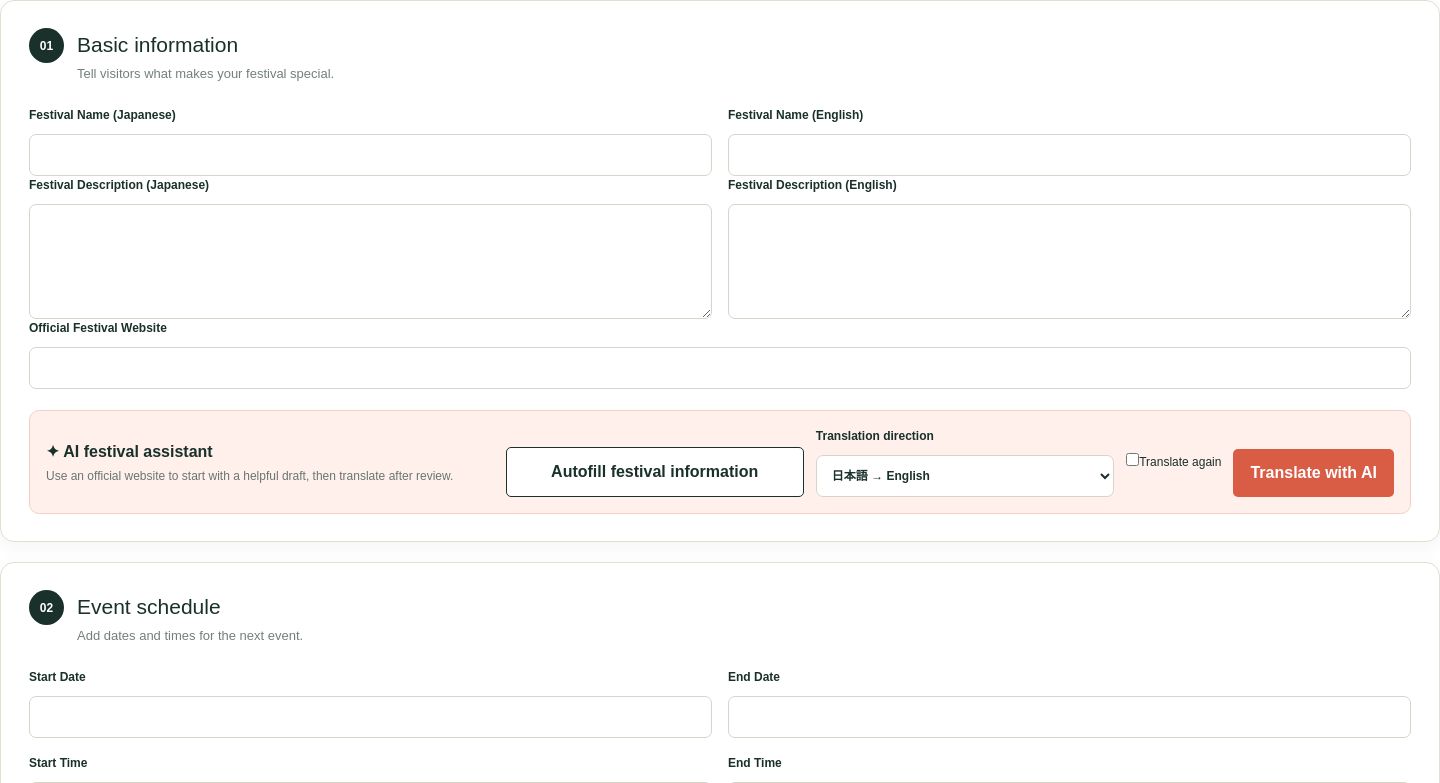
SubmissionForm Phase 2 › normalizes legacy Japanese autofill values into bilingual form fields without replacing edits
Type "Approved translation" into the text box named "descriptionEn" at [1070, 262], box [728, 204, 1411, 319]
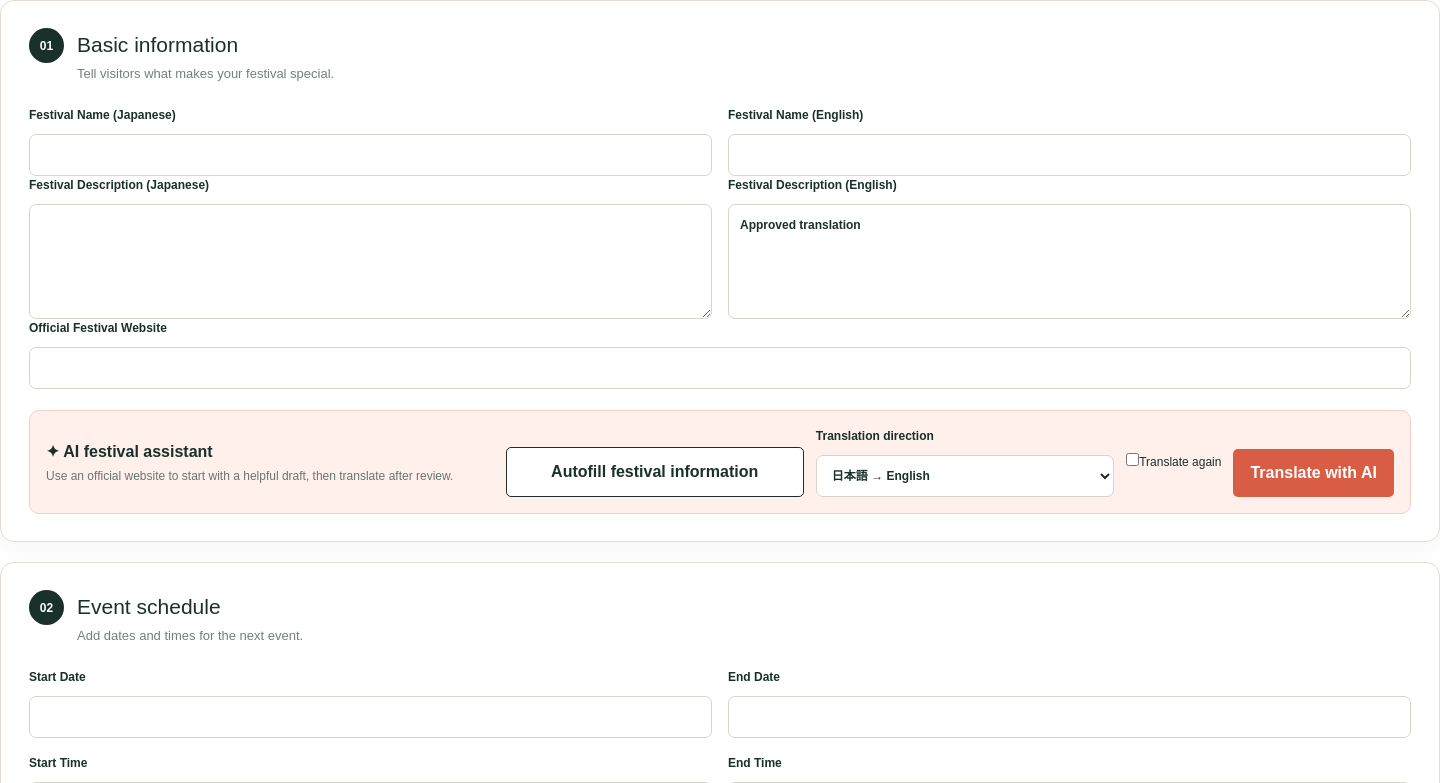
Type "https://example.com" into the field labelled "Official Festival Website" at [720, 368], box [29, 347, 1411, 389]
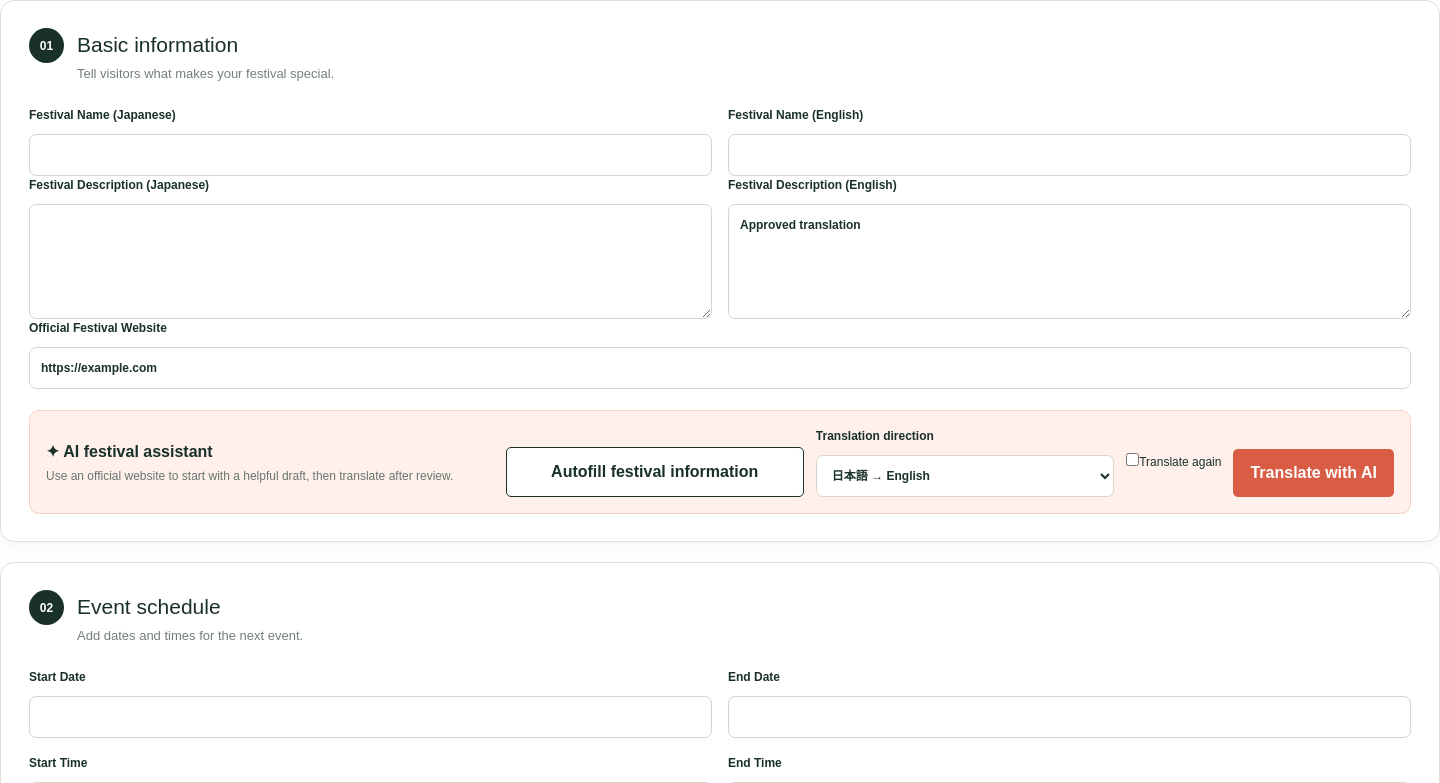
Click the button "Autofill festival information" at [655, 472], box [506, 447, 804, 497]
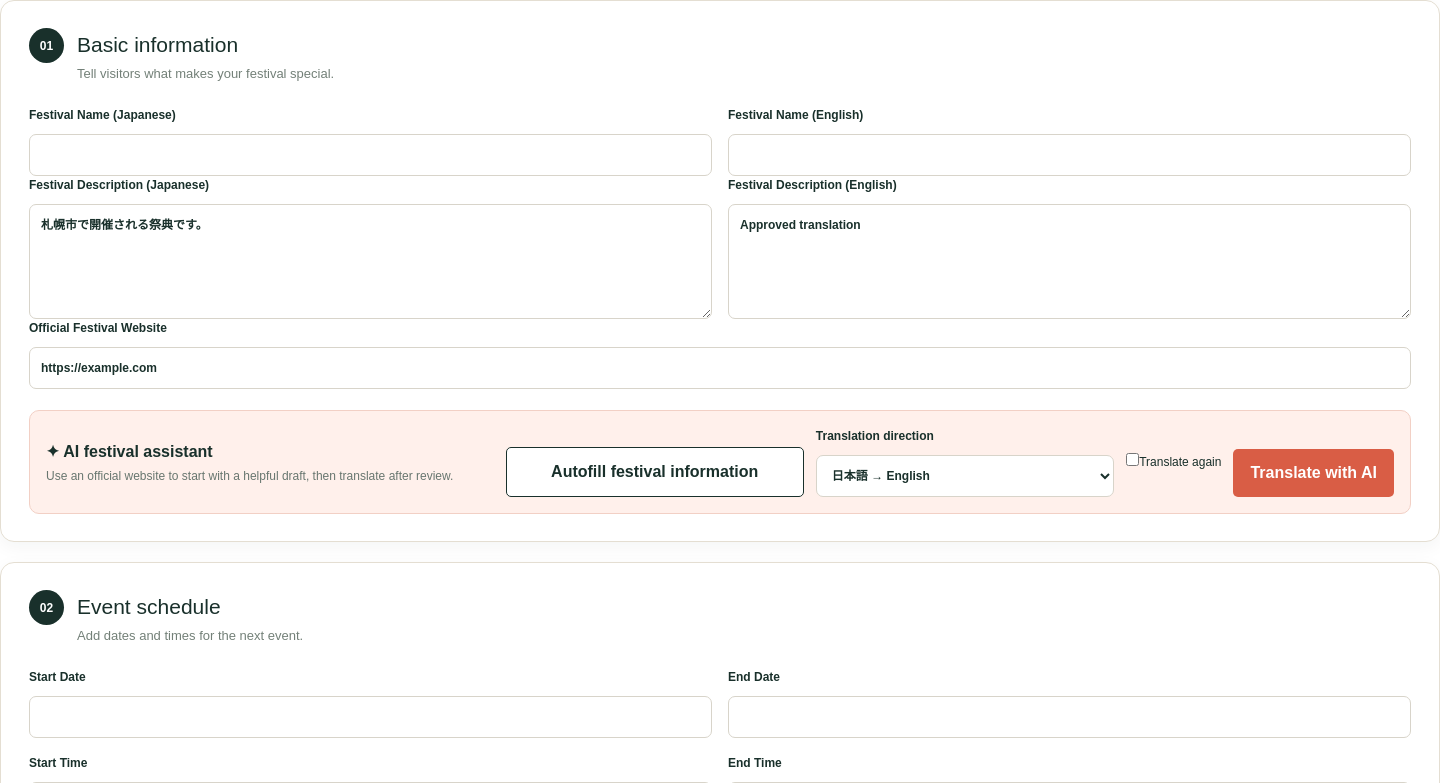
expect the text box named "descriptionJa" holds "札幌市で開催される祭典です。": met, box [29, 204, 712, 319]
